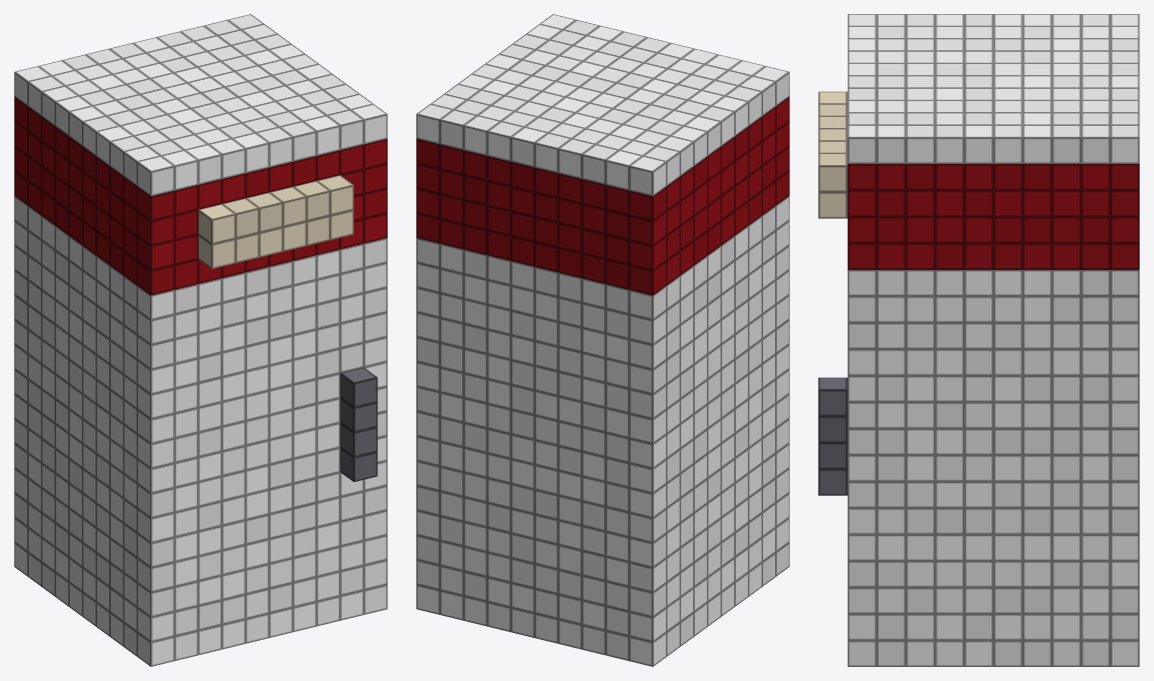
The model's file is wine_fridge.glb.
3 renders of one model, left to right at view 1: azimuth 30°, elevation 25°; view 2: azimuth 150°, elevation 25°; view 3: azimuth 270°, elevation 25°, orthographic. The views are drawn at different scales.
Parts seen in each view (by area): view 1: wine_fridge; view 2: wine_fridge; view 3: wine_fridge.
Part boxes in pixels (x1,y1,x2,y2): wine_fridge: [14, 14, 387, 666]; wine_fridge: [416, 14, 789, 666]; wine_fridge: [818, 14, 1139, 666].
Size of the model in its own units: 0.5 by 1 by 0.55.
11 materials, 10 textured.
